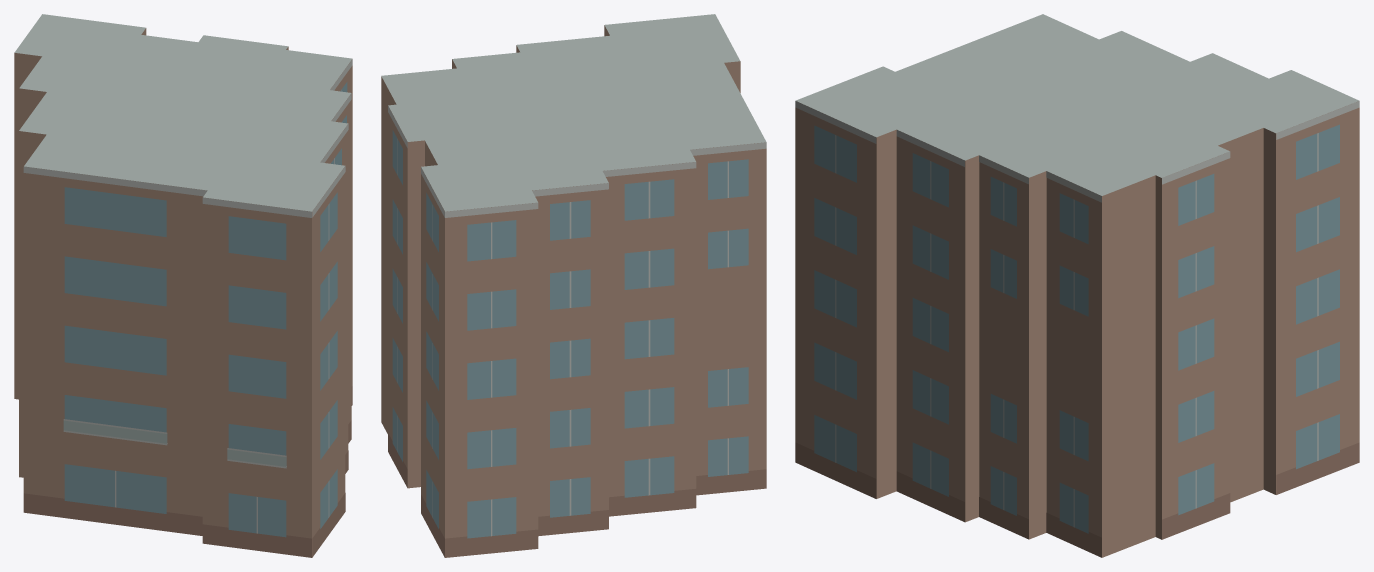
The model's file is survey-upis-32622079.glb.
3 renders of one model, left to right at view 1: azimuth 30°, elevation 25°; view 2: azimuth 150°, elevation 25°; view 3: azimuth 270°, elevation 25°, orthographic. The views are drawn at different scales.
Parts seen in each view (by area): view 1: survey-upis-32622079.tmp; view 2: survey-upis-32622079.tmp; view 3: survey-upis-32622079.tmp.
Part boxes in pixels (x1=…): survey-upis-32622079.tmp: x1=14, y1=14, x2=352, y2=557; survey-upis-32622079.tmp: x1=381, y1=14, x2=766, y2=557; survey-upis-32622079.tmp: x1=795, y1=14, x2=1359, y2=557.
Bounding box in the file's own units: 14.15 × 13.1 × 18.52.
